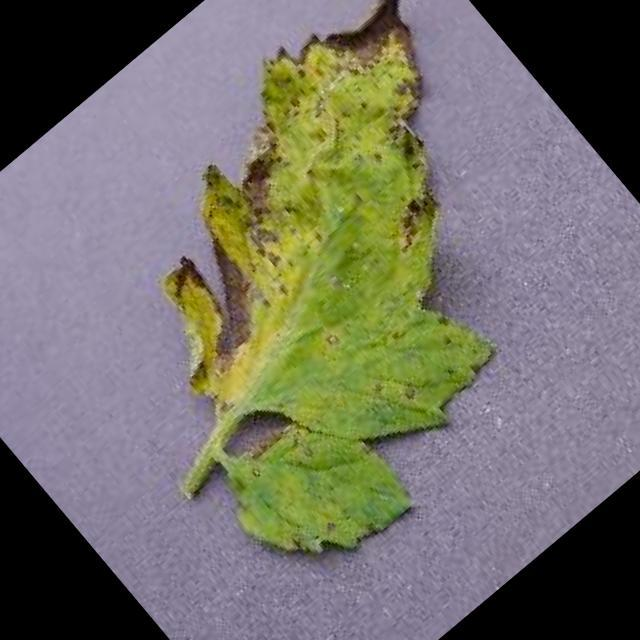Tomato Septoria spot leaf: (21, 0, 640, 600)
